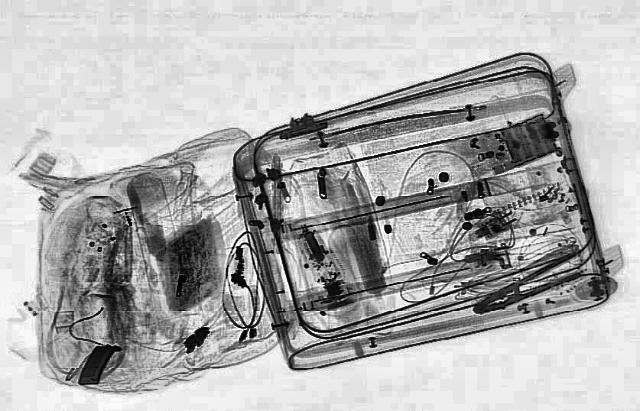Pliers: (459, 250, 596, 320)
